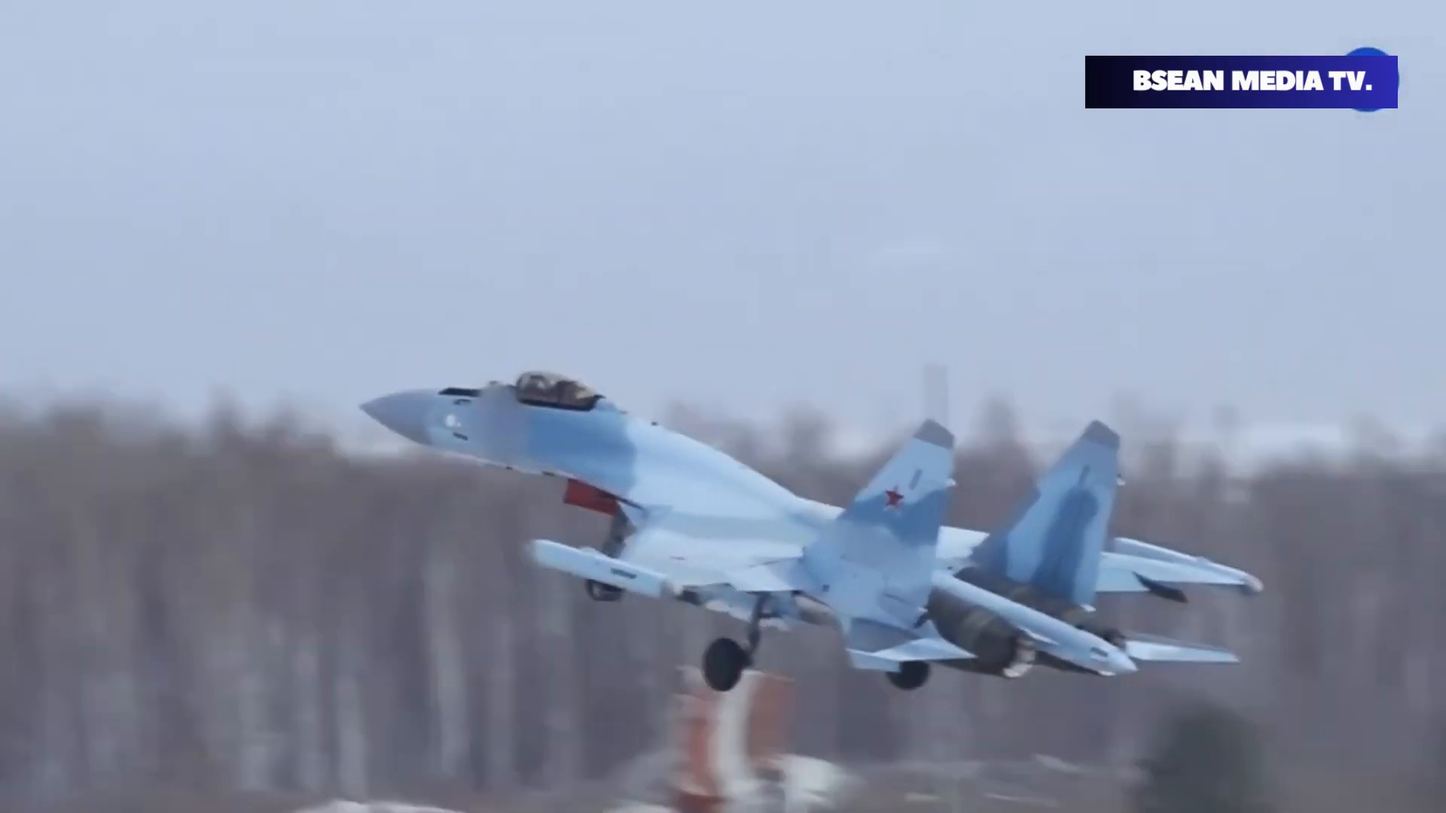Su35: (360, 371, 1267, 691)
